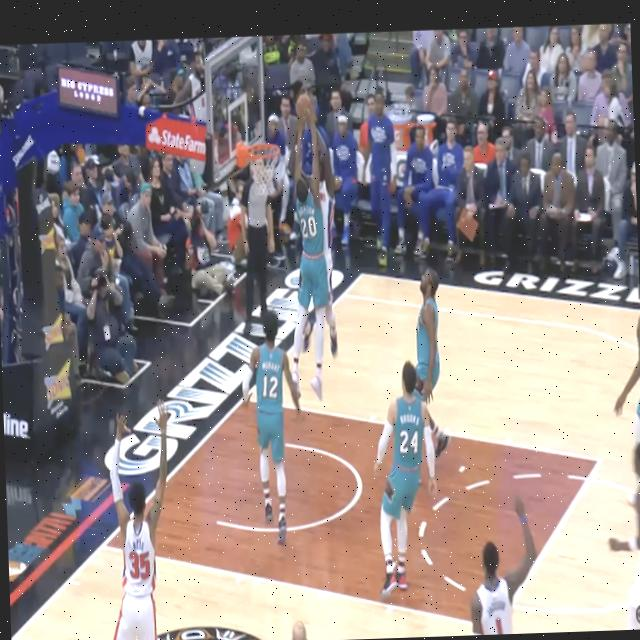foul: (280, 92, 354, 415)
no foul: (236, 302, 306, 532)
